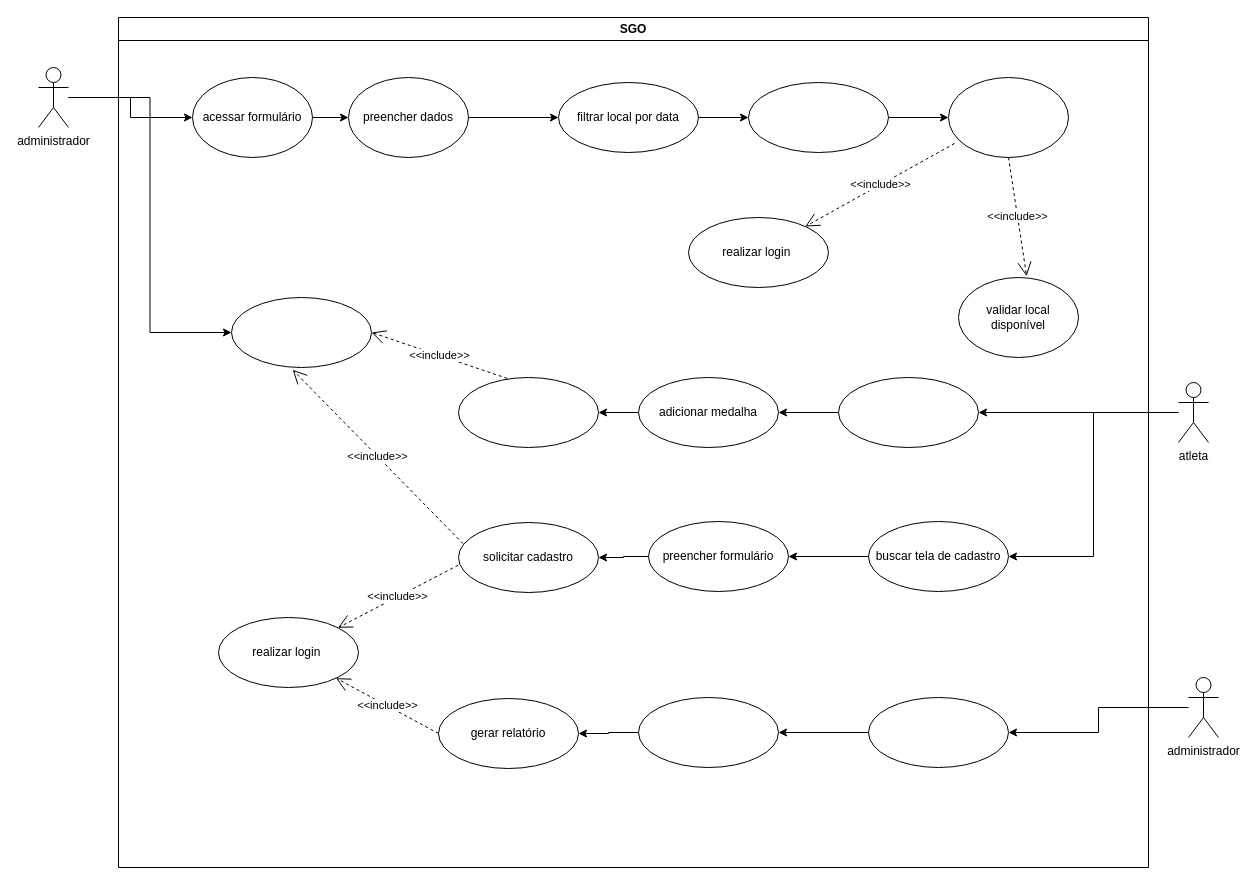
Some shapes in this 1257 by 885 pixel diagram are drawn without their labels. The shapes that lost their labels are listed below. From the top down, each one's box as (x1, y1, x2, y2) in pixels, then its label:
(748, 82, 888, 152): selecionar data
(948, 76, 1068, 158): cadastrar competição
(230, 296, 372, 368): validar requisição
(458, 376, 598, 448): cadastrar medalha
(838, 376, 978, 448): buscar competição
(638, 696, 778, 768): filtrar por país
(868, 696, 1008, 768): definir período
